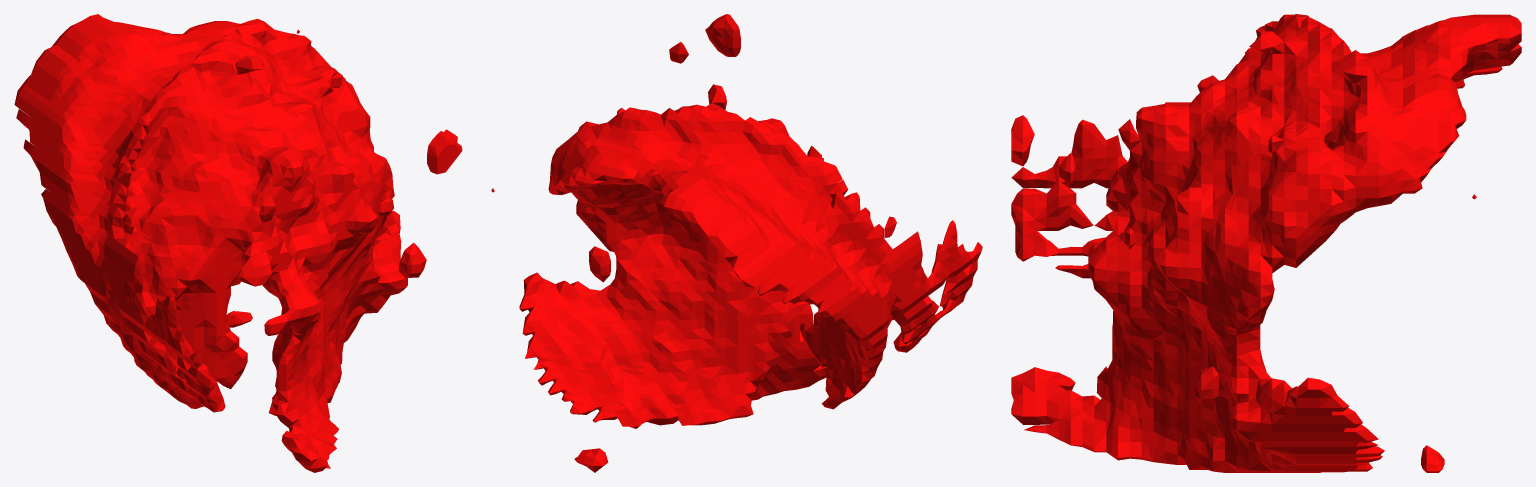
The model's file is B939XXXX-1_valve_22.obj.
3 renders of one model, left to right at view 1: azimuth 30°, elevation 25°; view 2: azimuth 150°, elevation 25°; view 3: azimuth 270°, elevation 25°, orthographic. The views are drawn at different scales.
Parts seen in each view (by area): view 1: 22_valve; view 2: 22_valve; view 3: 22_valve.
Part boxes in pixels (box(x1,y1,x2,y2)): 22_valve: box(14, 14, 462, 472); 22_valve: box(491, 14, 982, 472); 22_valve: box(1011, 14, 1521, 472).
Size of the model in its own units: 76.97 by 76.97 by 85.95.
